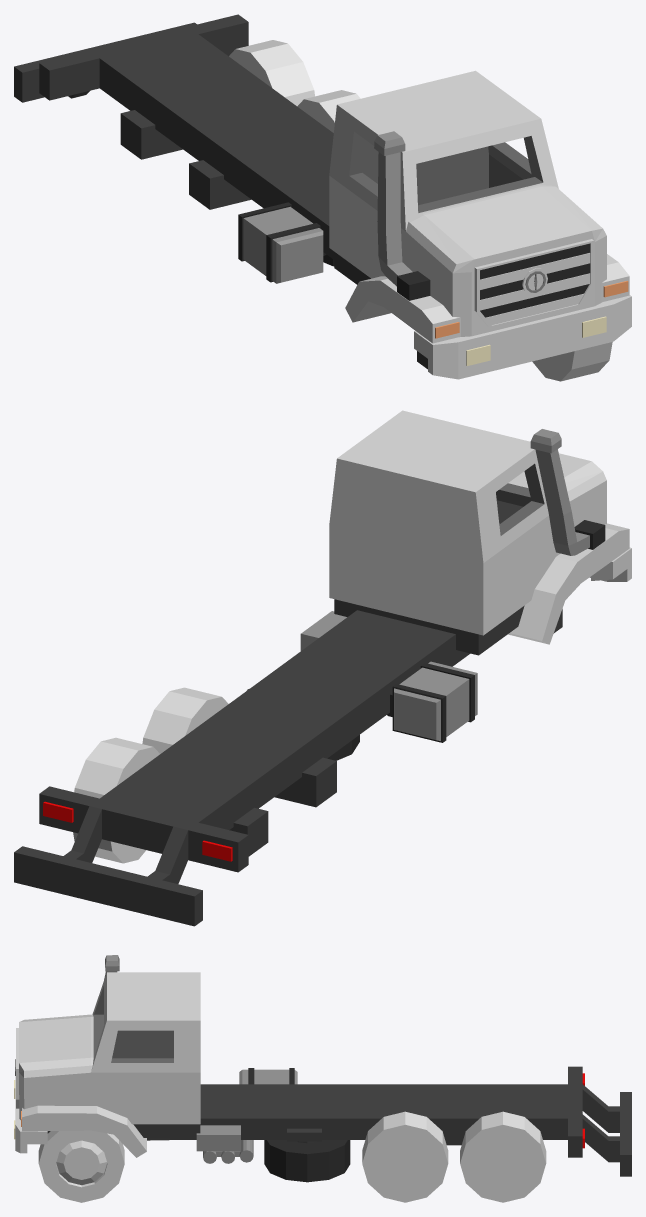
File: Zetros.fbx
The picture shows the model from 3 angles, top to bottom: view 1: azimuth 30°, elevation 25°; view 2: azimuth 150°, elevation 25°; view 3: azimuth 270°, elevation 25°; orthographic projection. The views are drawn at different scales.
Visible parts, largest first — view 1: Cube, Cube.007, Cylinder.002, Cylinder.007, Cylinder.001; view 2: Cube.007, Cube, Cylinder.002, Cylinder.001; view 3: Cube, Cube.007, Cylinder.002, Cylinder.001, Cylinder.007.
Boxes of the visible parts, x1,y1,x2,y2 form: Cube: [329, 70, 631, 379]; Cube.007: [14, 14, 334, 283]; Cylinder.002: [229, 40, 314, 106]; Cylinder.007: [532, 342, 612, 381]; Cylinder.001: [297, 90, 360, 132]; Cube.007: [14, 610, 477, 926]; Cube: [329, 410, 631, 655]; Cylinder.002: [73, 737, 159, 863]; Cylinder.001: [142, 687, 228, 753]; Cube: [14, 955, 200, 1157]; Cube.007: [147, 1066, 631, 1182]; Cylinder.002: [460, 1111, 546, 1202]; Cylinder.001: [362, 1111, 448, 1202]; Cylinder.007: [38, 1130, 124, 1202].
Bounding box in the file's own units: 340 × 417 × 1263.
